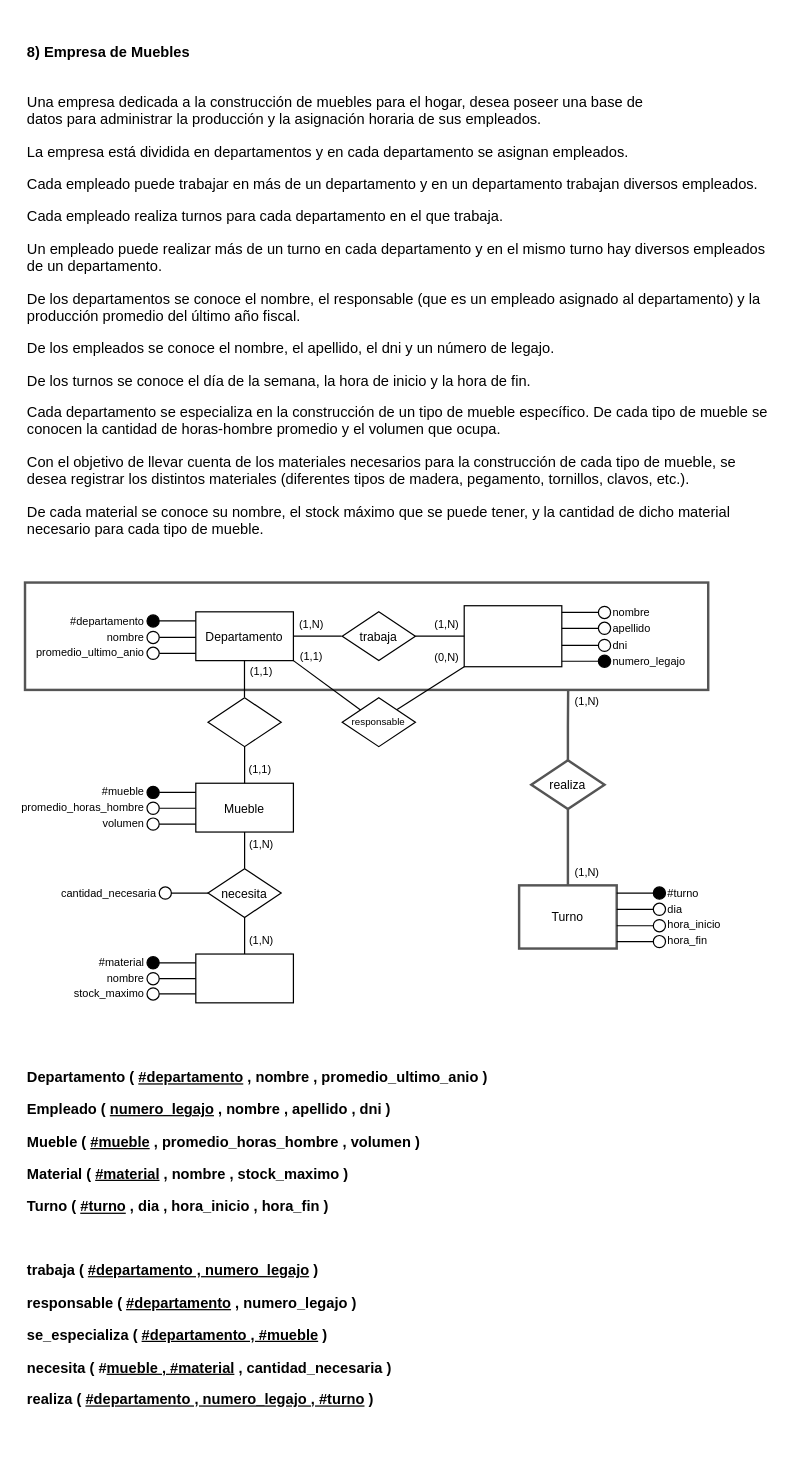
This 789x1457 diagram has some shape labels left out. Here are the shapes that lost their labels. From the top down, the centre of each, then its label:
point (512, 636): Empleado
point (244, 722): se_especializa
point (244, 978): Material
